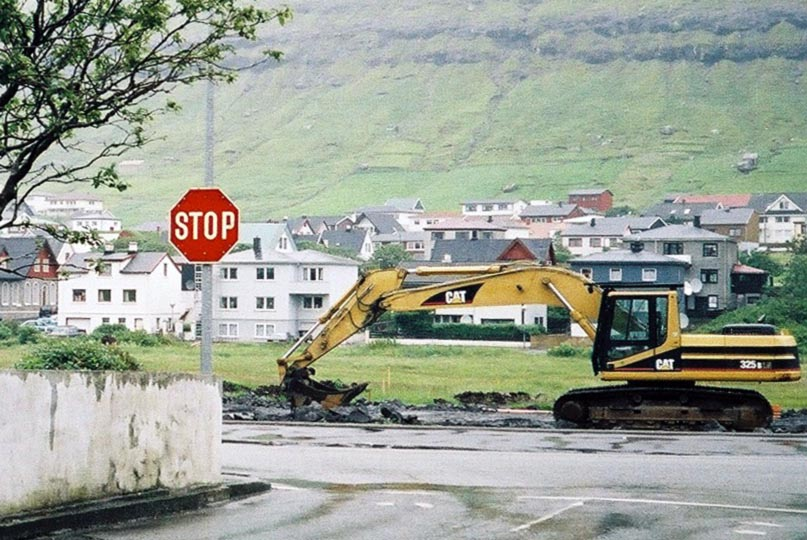stop: (169, 187, 237, 265)
